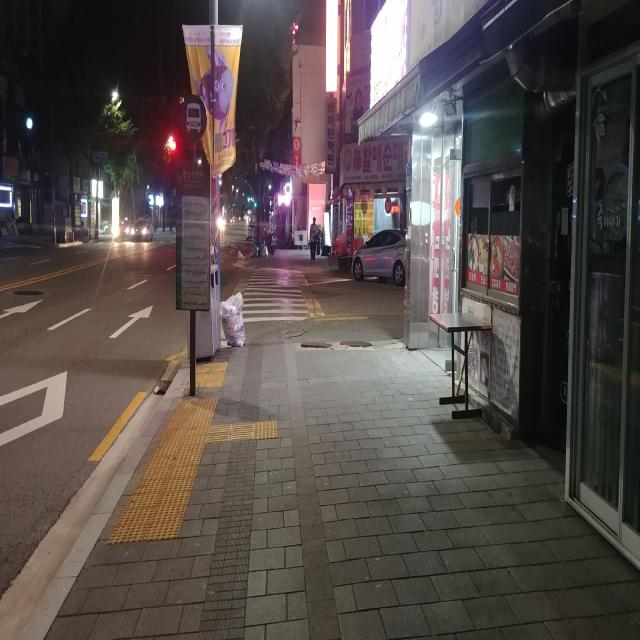횡단보도: (241, 268, 310, 323)
